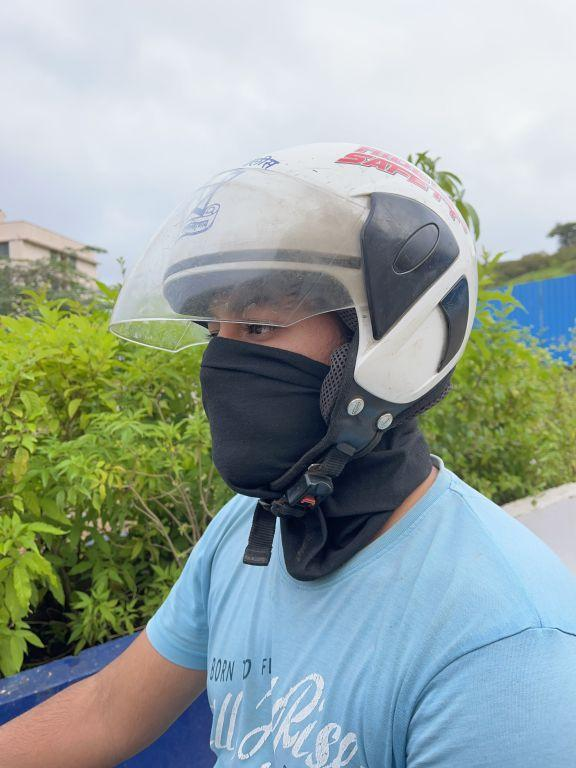helmet: (89, 120, 484, 522)
